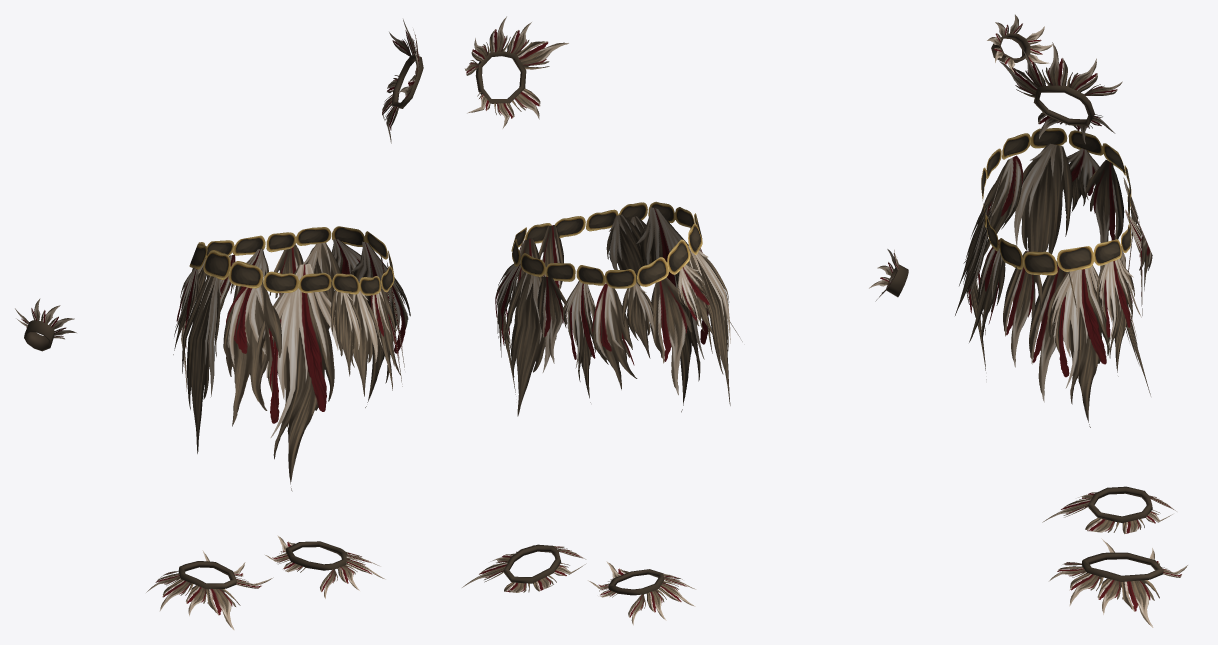
File: F_Owl_Clothes.fbx
3 renders of one model, left to right at view 1: azimuth 30°, elevation 25°; view 2: azimuth 150°, elevation 25°; view 3: azimuth 270°, elevation 25°, orthographic. The views are drawn at different scales.
Visible parts, largest first — view 1: F_Owl_Outfit; view 2: F_Owl_Outfit; view 3: F_Owl_Outfit.
Part boxes in pixels (x1,y1,x2,y2): F_Owl_Outfit: (15, 19, 423, 630); F_Owl_Outfit: (462, 16, 908, 625); F_Owl_Outfit: (955, 14, 1187, 627).
Size of the model in its own units: 114 by 146 by 59.57.
1 material, 1 textured.
